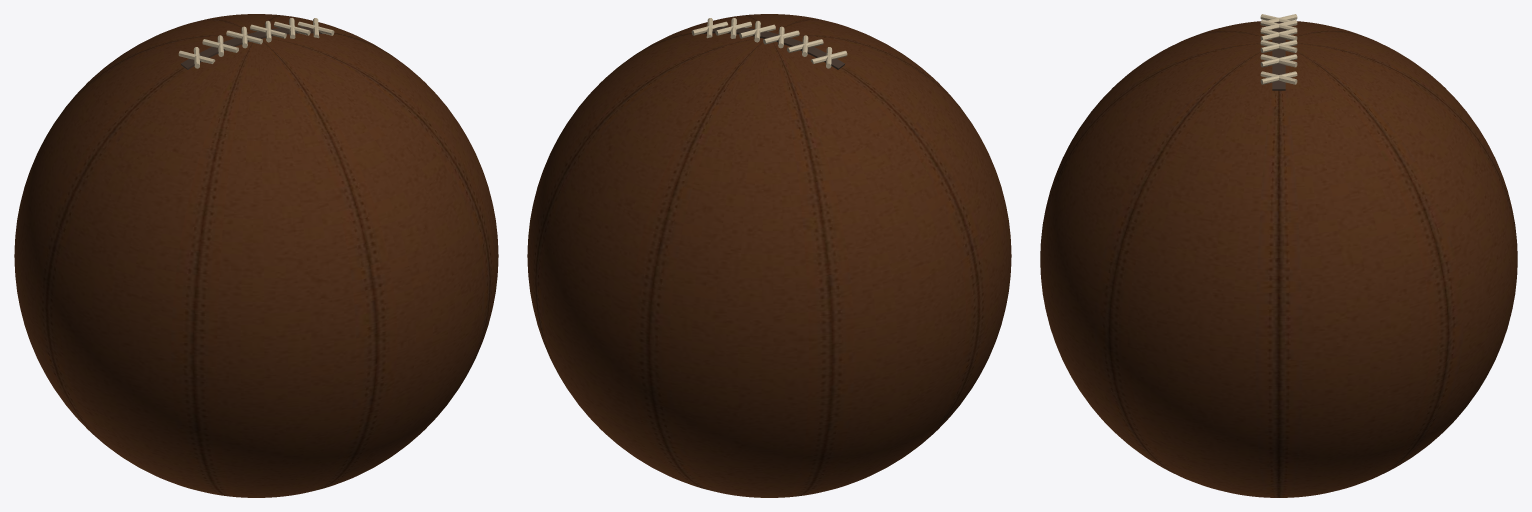
Rendered from ball.glb.
3 renders of one model, left to right at view 1: azimuth 30°, elevation 25°; view 2: azimuth 150°, elevation 25°; view 3: azimuth 270°, elevation 25°, orthographic.
Visible parts, largest first — view 1: ball_skin; view 2: ball_skin; view 3: ball_skin.
Part boxes in pixels (bbox=[...]): ball_skin: bbox=[14, 14, 498, 497]; ball_skin: bbox=[527, 14, 1011, 497]; ball_skin: bbox=[1040, 21, 1517, 497].
Size of the model in its own units: 0.22 by 0.2223 by 0.22.
3 materials, 1 textured.
